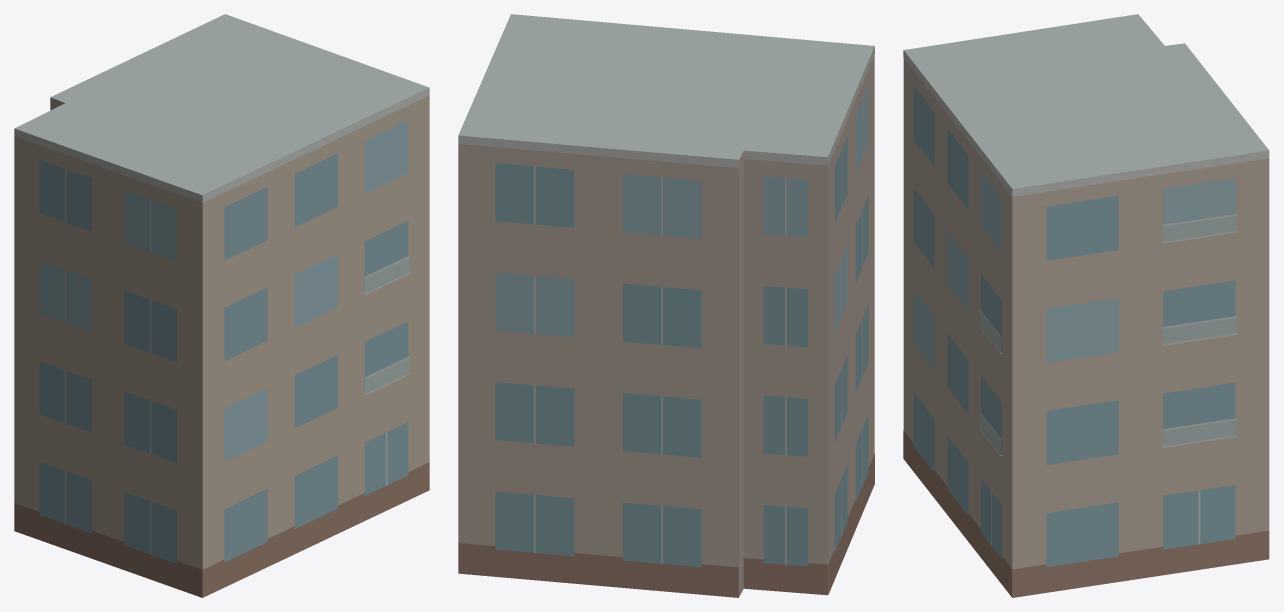
Rendered from survey-upis-32744974.glb.
3 views of the same model, side by side, from view 1: azimuth 30°, elevation 25°; view 2: azimuth 150°, elevation 25°; view 3: azimuth 270°, elevation 25° (orthographic). The views are drawn at different scales.
Visible parts, largest first — view 1: survey-upis-32744974.tmp; view 2: survey-upis-32744974.tmp; view 3: survey-upis-32744974.tmp.
Boxes of the visible parts, x1=… form: survey-upis-32744974.tmp: x1=14, y1=14, x2=429, y2=597; survey-upis-32744974.tmp: x1=458, y1=14, x2=874, y2=597; survey-upis-32744974.tmp: x1=903, y1=14, x2=1269, y2=597.
Size of the model in its own units: 11.77 by 12.8 by 10.39.
